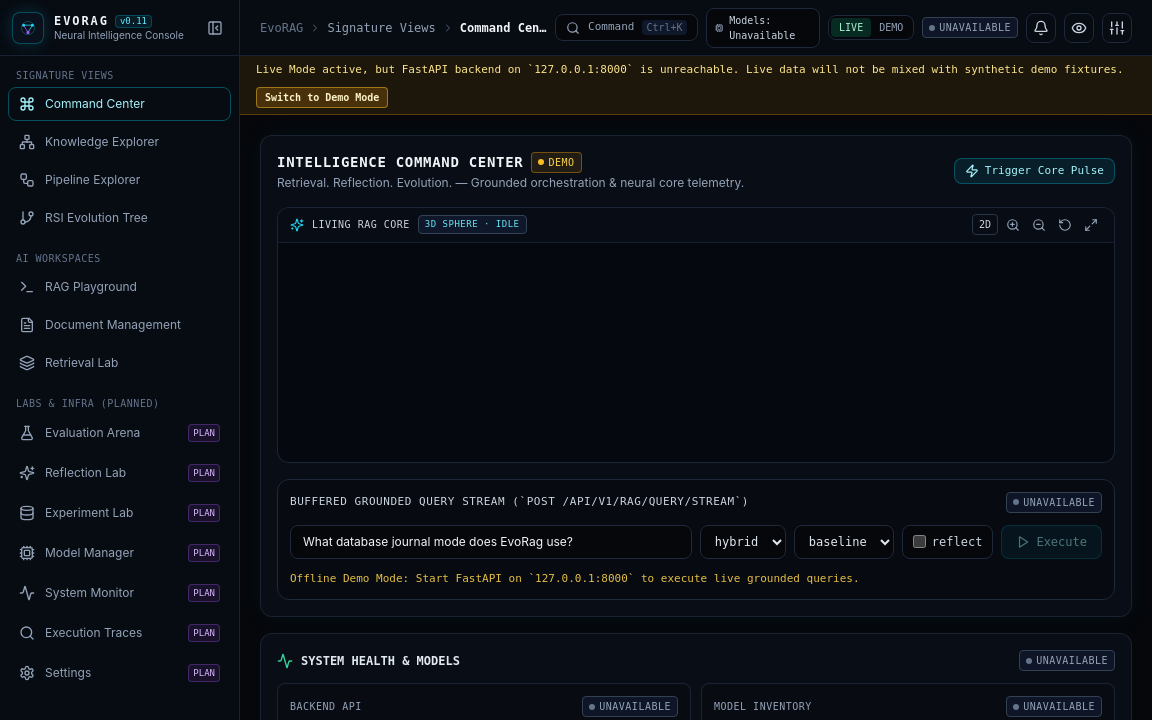
Test: EvoRAG Phase 11.3 Functional AI Workspace › enforces strict live/demo separation and requires explicit demo transition
Expected: the heading "INTELLIGENCE COMMAND CENTER" is shown, [277,152,524,172]
Expected: the text "Live Mode active, but FastAPI backend" is shown, [256,63,1124,76]
Click the button "Switch to Demo Mode". click: {"x": 322, "y": 97}
box: [256,86,388,108]
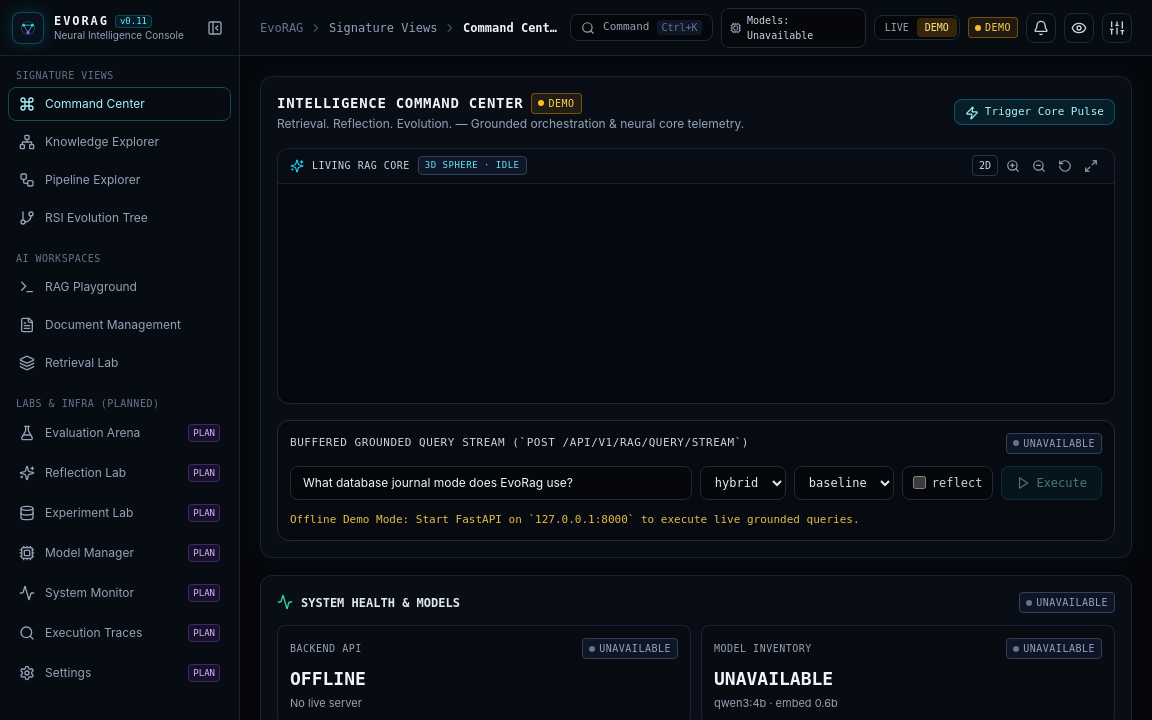
Expected: the button "DEMO" is shown, [917,18,957,37]
Expected: the text "Live Mode active, but FastAPI backend" is gone
